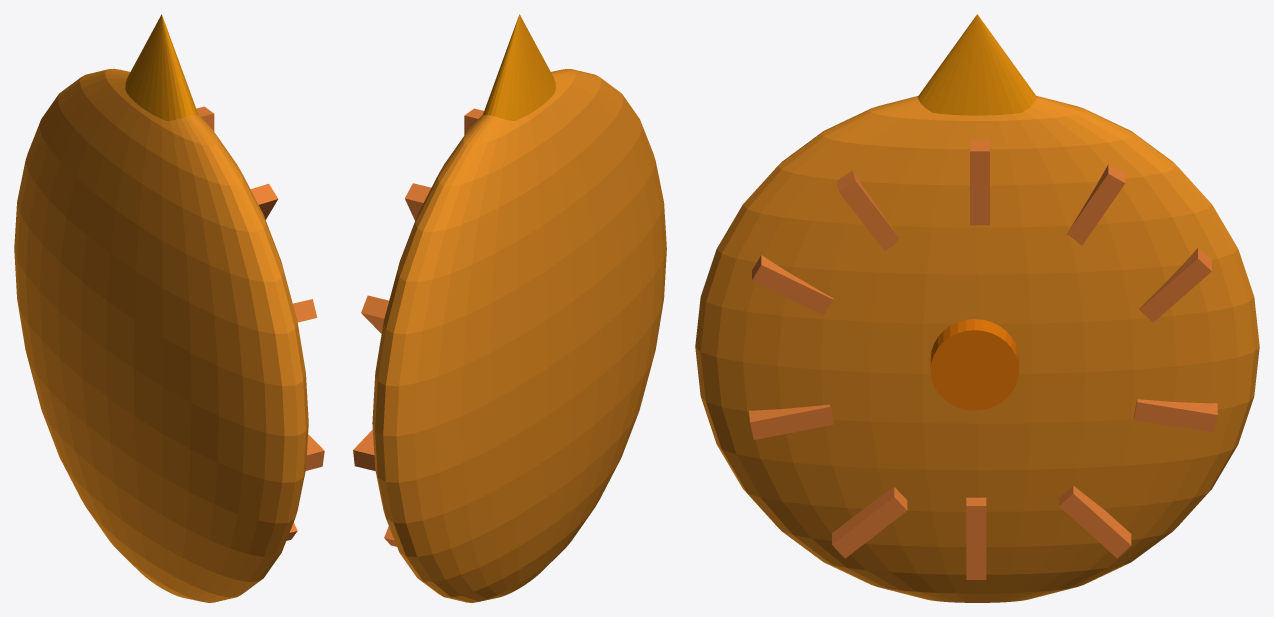
The picture shows the model from 3 angles, left to right: view 1: azimuth 30°, elevation 25°; view 2: azimuth 150°, elevation 25°; view 3: azimuth 270°, elevation 25°; orthographic projection. The views are drawn at different scales.
Parts seen in each view (by area): view 1: Сфера, Конус, Куб.009, Куб.007, Куб.008; view 2: Сфера, Конус, Куб.002, Куб.003, Куб.001; view 3: Сфера, Конус, Цилиндр, Куб.006, Куб.004, Куб.003, Куб.007, Куб.002, Куб.008, Куб.009, Куб.001, Куб.005 (+1 smaller).
Boxes of the visible parts, x1,y1,x2,y2 form: Сфера: (14,68,308,602); Конус: (125,14,198,120); Куб.009: (250,183,277,219); Куб.007: (305,434,324,470); Куб.008: (293,299,317,322); Сфера: (372,69,666,602); Конус: (483,14,555,120); Куб.002: (361,295,388,333); Куб.003: (353,429,375,470); Куб.001: (405,183,430,220); Сфера: (695,96,1259,602); Конус: (917,14,1036,115); Цилиндр: (930,319,1018,410); Куб.006: (832,487,907,558); Куб.004: (1059,485,1131,558); Куб.003: (1133,399,1217,432); Куб.007: (749,404,833,439); Куб.002: (1139,248,1211,322); Куб.008: (752,255,833,315); Куб.009: (836,170,898,250); Куб.001: (1066,164,1125,245); Куб.005: (966,497,986,579).
Bounding box in the file's own units: 355 × 1466 × 1275.
